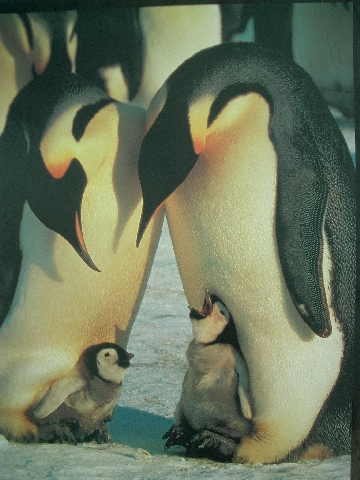penguin: (138, 43, 360, 463), (1, 71, 159, 441), (164, 288, 269, 460), (33, 344, 145, 443)
